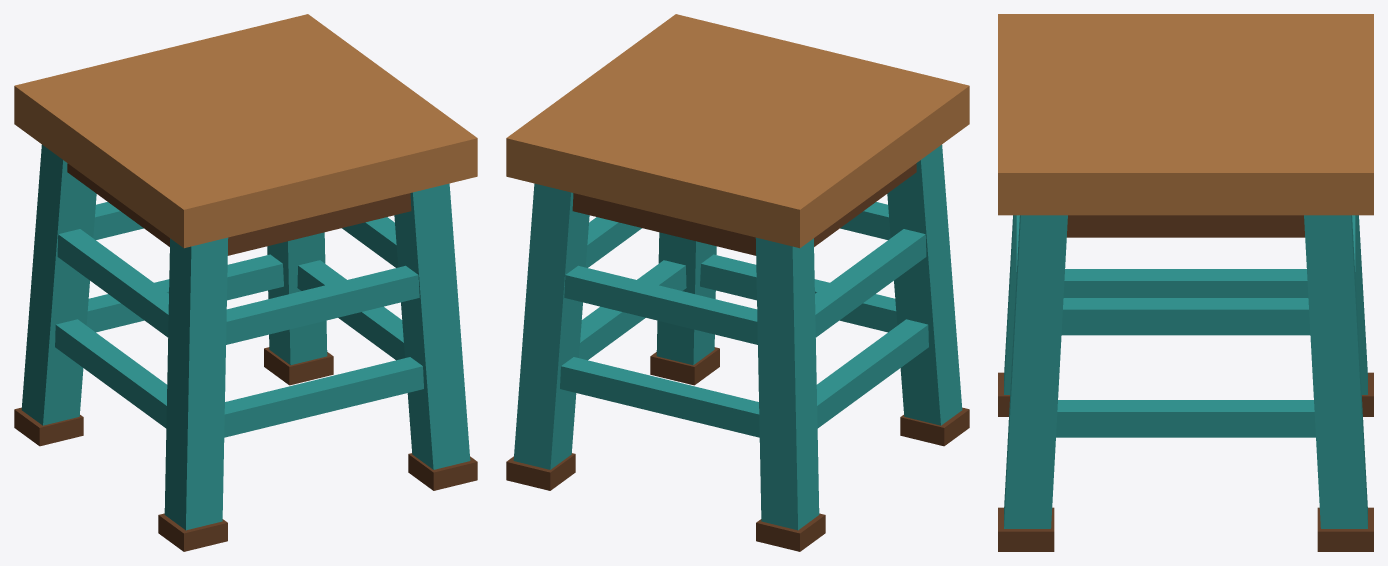
Rendered from decoracion-silla-banquito.glb.
3 views of the same model, side by side, from view 1: azimuth 30°, elevation 25°; view 2: azimuth 150°, elevation 25°; view 3: azimuth 270°, elevation 25° (orthographic). The views are drawn at different scales.
Visible parts, largest first — view 1: silla_banquito_SillaTurquesa, silla_banquito_AsientoMadera, silla_banquito_MaderaOscura; view 2: silla_banquito_SillaTurquesa, silla_banquito_AsientoMadera, silla_banquito_MaderaOscura; view 3: silla_banquito_AsientoMadera, silla_banquito_SillaTurquesa, silla_banquito_MaderaOscura.
Boxes of the visible parts, bbox=[...] form: silla_banquito_SillaTurquesa: bbox=[21, 144, 470, 530]; silla_banquito_AsientoMadera: bbox=[14, 14, 477, 248]; silla_banquito_MaderaOscura: bbox=[14, 163, 477, 551]; silla_banquito_SillaTurquesa: bbox=[513, 144, 962, 530]; silla_banquito_AsientoMadera: bbox=[506, 14, 969, 248]; silla_banquito_MaderaOscura: bbox=[506, 163, 969, 551]; silla_banquito_AsientoMadera: bbox=[998, 14, 1373, 215]; silla_banquito_SillaTurquesa: bbox=[1004, 215, 1367, 528]; silla_banquito_MaderaOscura: bbox=[998, 215, 1373, 551].
Bounding box in the file's own units: 0.4 × 0.447 × 0.4.
